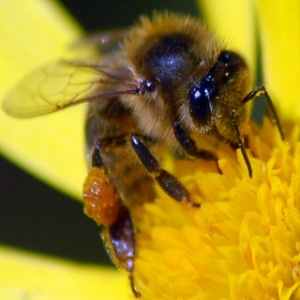bee: (85, 8, 288, 287)
